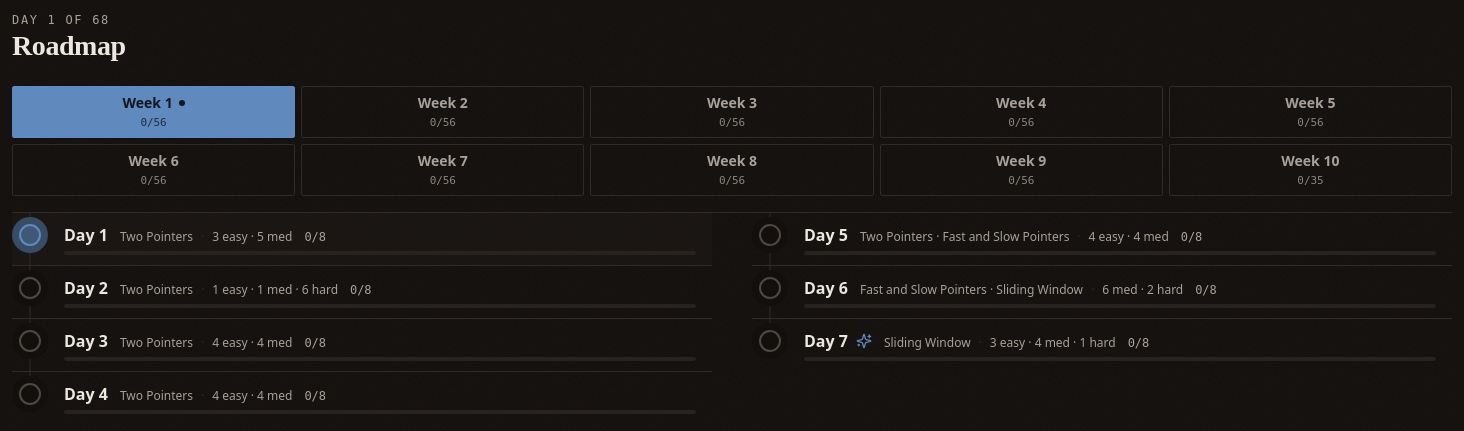
Test case: RoadmapPage › selecting a week tile shows that week's days and drops the previous week's
Click the radio button labelled "Week 2 0/56" at (443, 112), box [301,86,584,138]
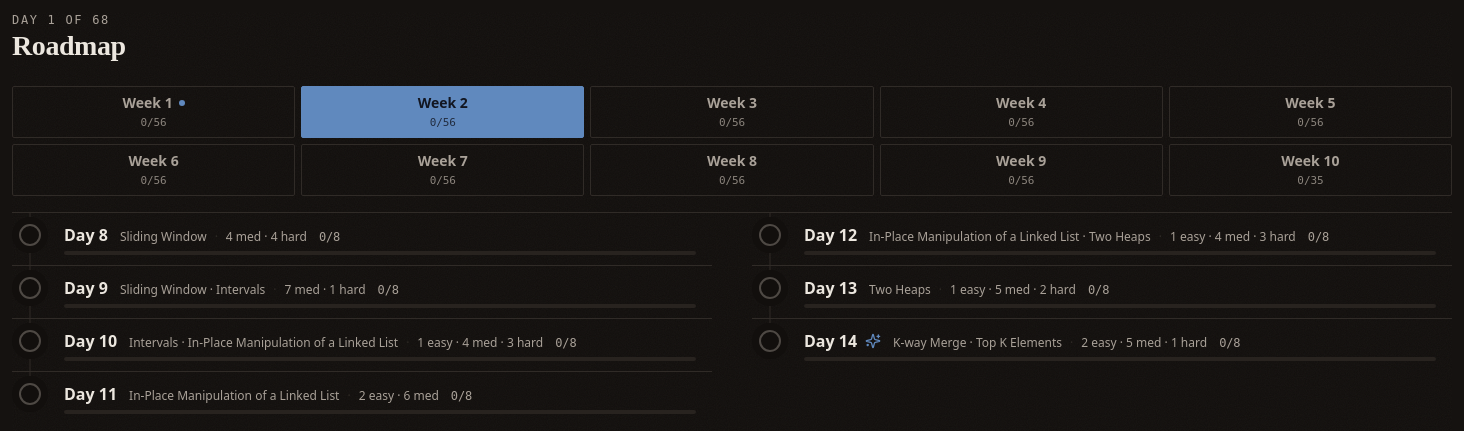
Now the text "Day 8" is shown, box [64,223,108,247]
Now the text "Day 14" is shown, box [804,329,881,353]
